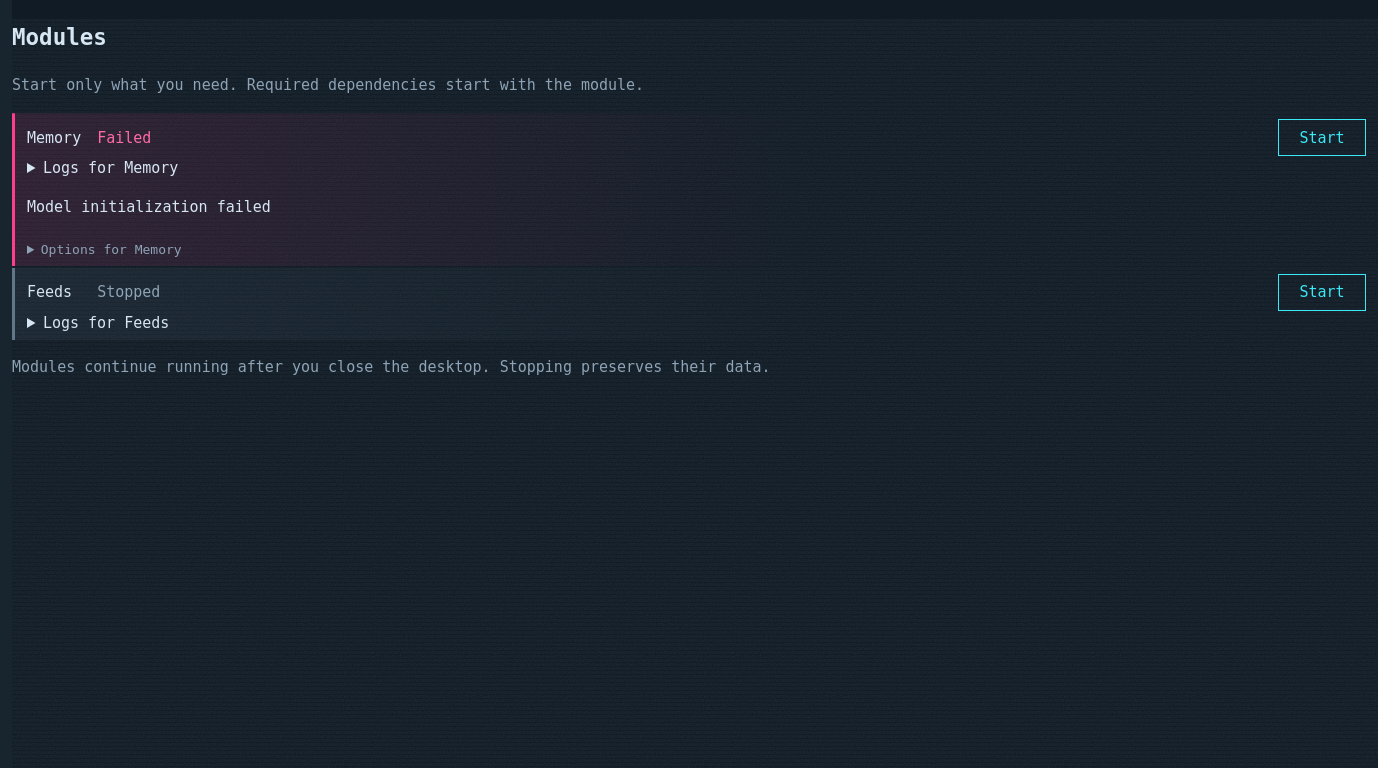
it: local runtime modules › shows background readiness errors and permits an explicit retry
This screenshot has width=1378, height=768.
Expected: the text "Model initialization failed" is shown, x1=27 y1=198 x2=271 y2=216
Click the button with aria-label "Start Memory" at (1322, 138), box x1=1278 y1=119 x2=1366 y2=156
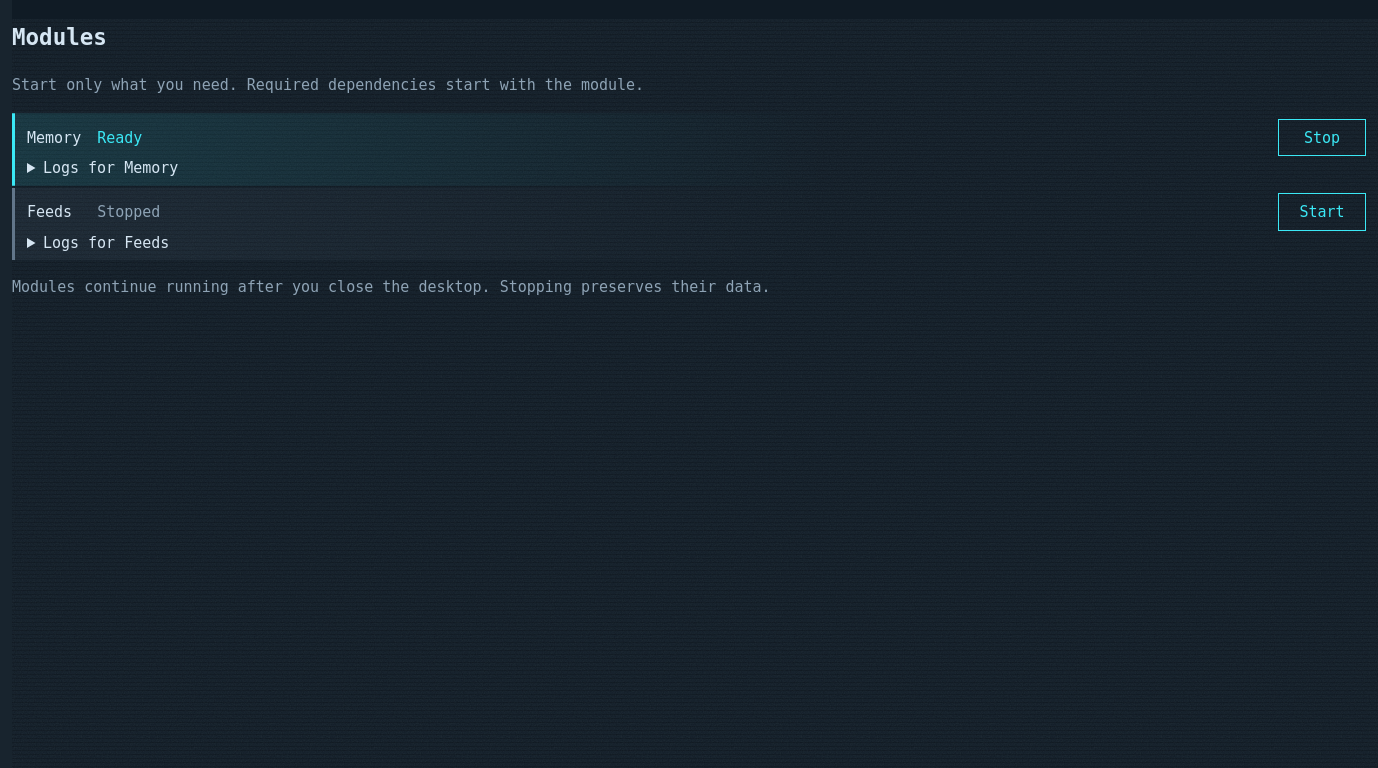
Expected: the text "Ready" is shown, x1=97 y1=128 x2=142 y2=146
